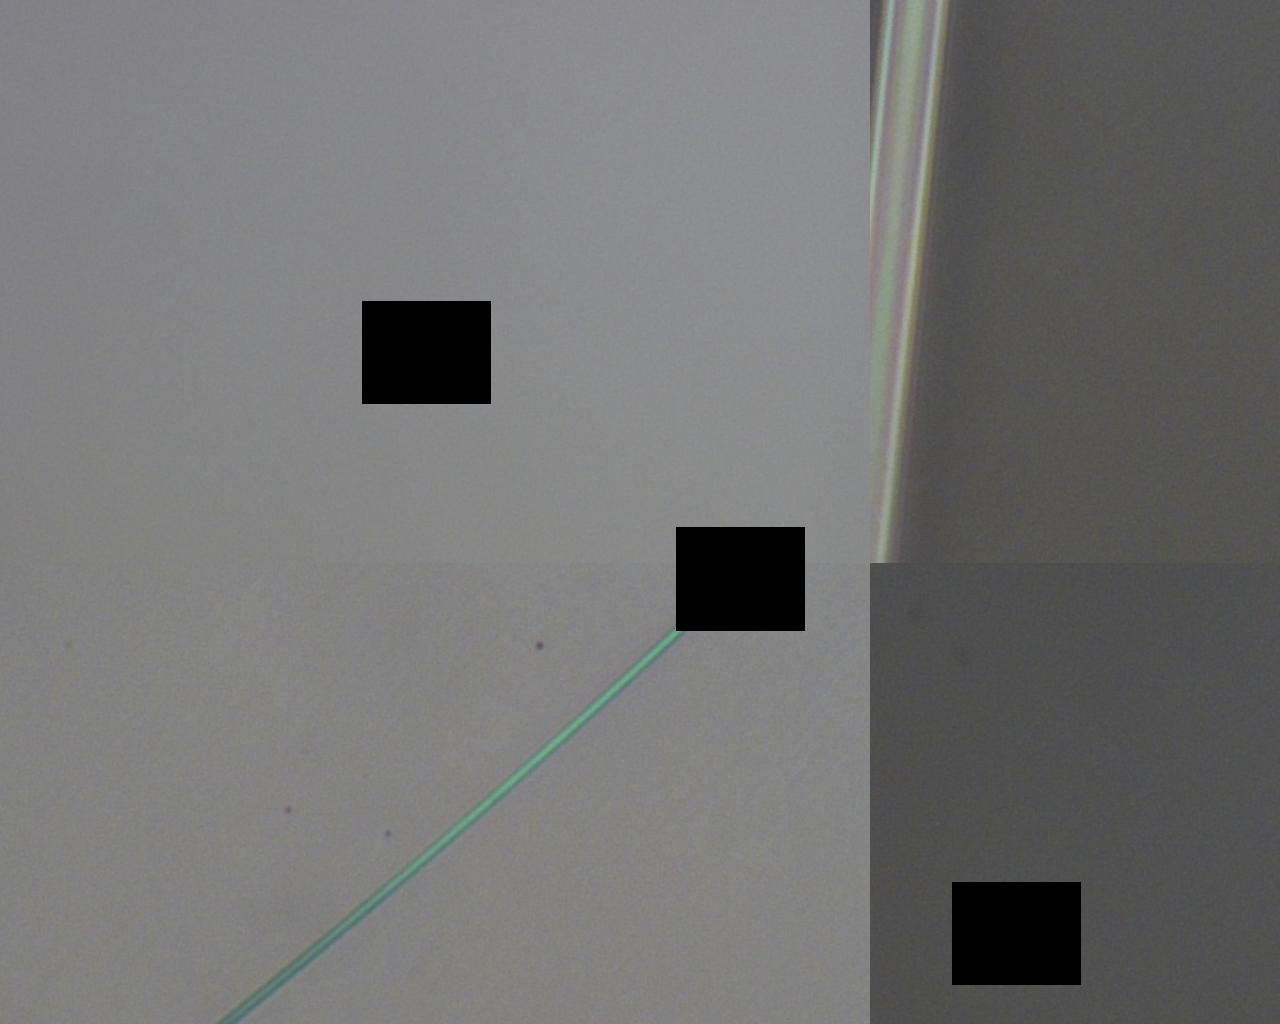fiber: (497, 0, 762, 1024)
